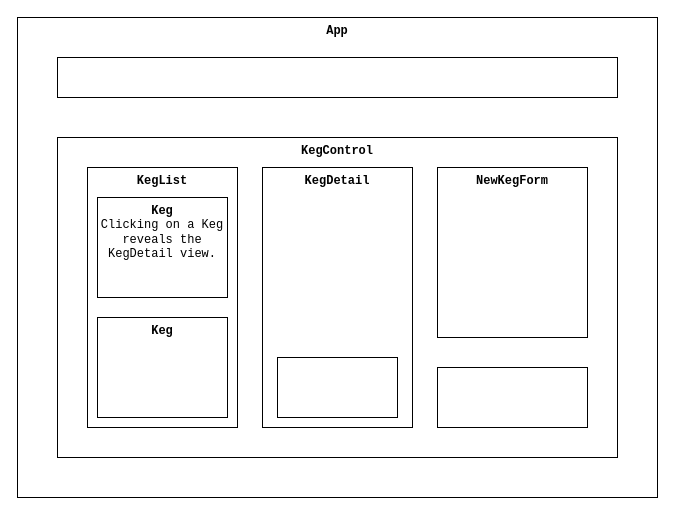
Image size: 675x515. Some labels were removed from this diagram. Each missing label, with the centre of its shape:
"AddKeg" goes at pixel 512 397.
"Header" goes at pixel 337 77.
"Submit" goes at pixel 337 387.
